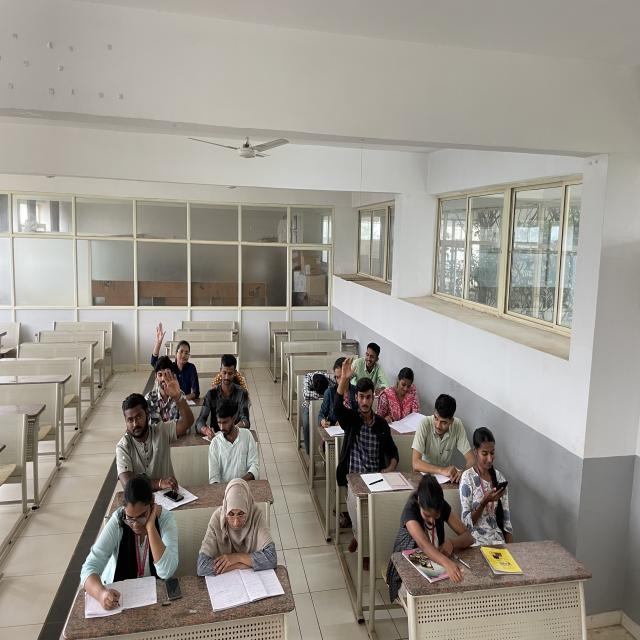Hand Rising: (112, 366, 196, 485), (330, 354, 395, 468), (144, 321, 201, 390)
Reading: (193, 475, 285, 608), (381, 367, 430, 438)
Sleeping: (392, 474, 470, 584), (300, 366, 334, 415)
Using Phone: (456, 425, 515, 525)
Writing: (79, 472, 182, 620), (194, 350, 251, 446), (319, 356, 357, 441)
